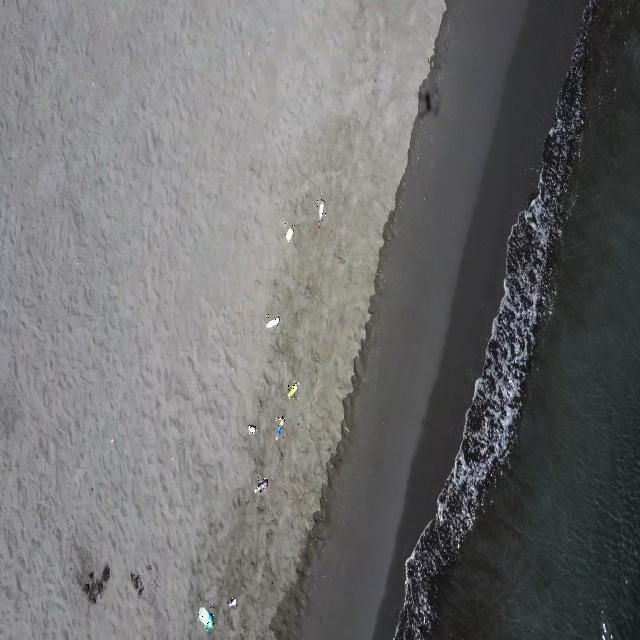Garbage: (198, 607, 213, 630), (253, 477, 267, 492), (275, 415, 283, 439), (316, 198, 324, 221), (287, 382, 298, 397), (264, 316, 279, 327), (284, 224, 292, 240), (227, 596, 236, 607), (247, 424, 255, 432)
